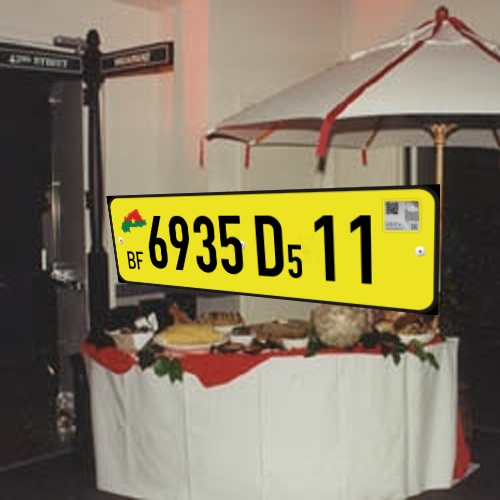plate: (97, 179, 452, 323)
